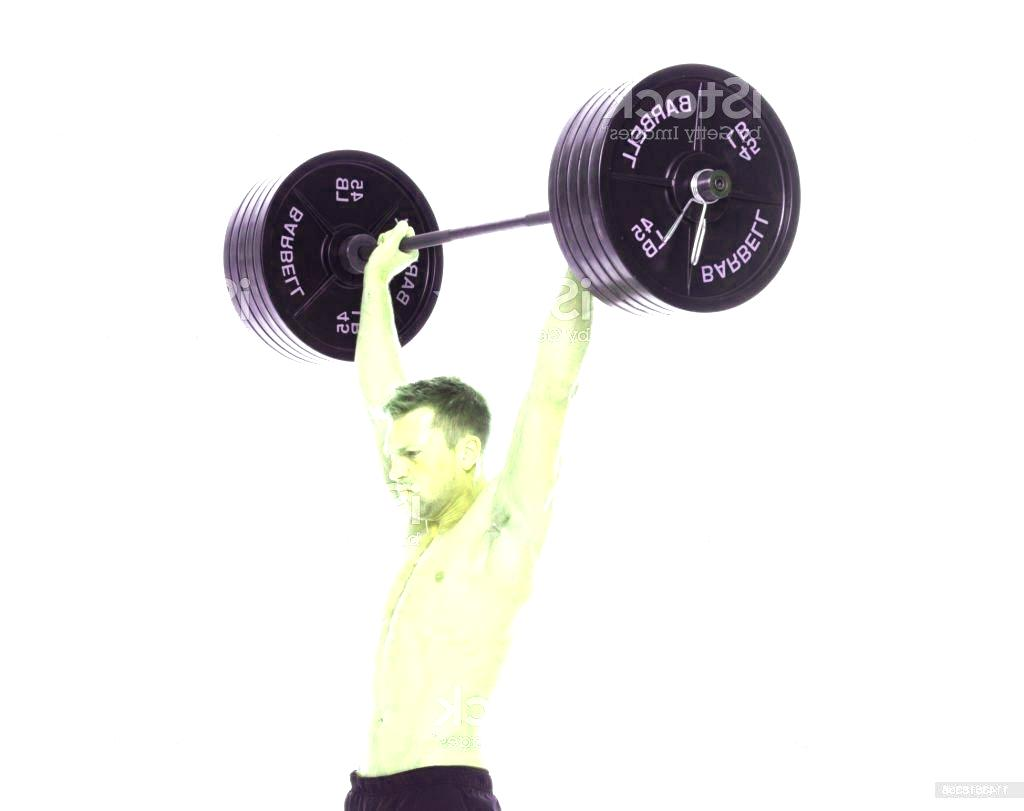Barbell: (678, 147, 748, 219)
